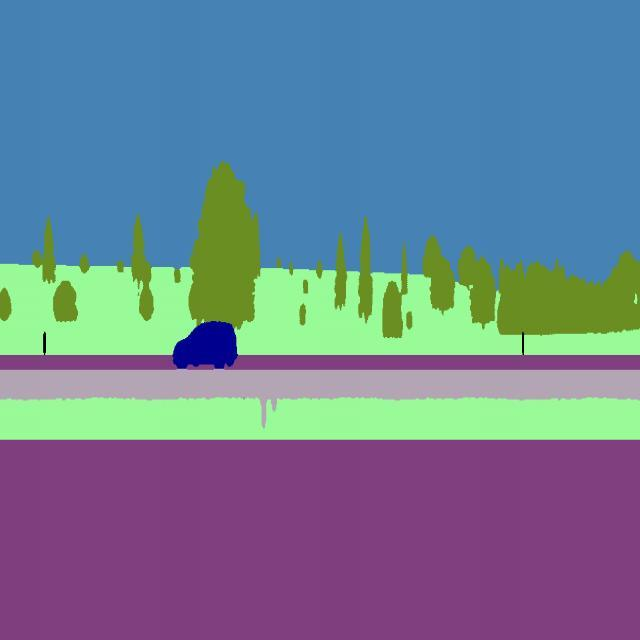safe: (169, 312, 243, 376)
